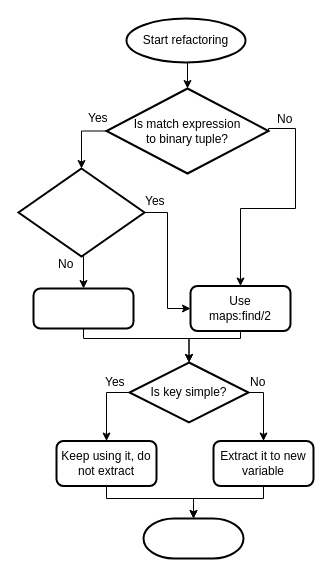
The diagram is 331 pixels wide and 576 high, and some of its shapes have lost their labels. Each missing label, with the centre of its shape:
End: point 193,538
Is the expression a return value?: point 81,212
Use pattern matching: point 83,308
